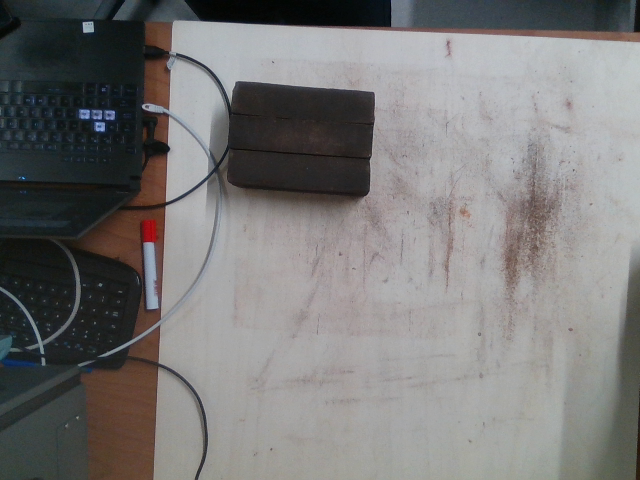brick-side: (235, 82, 372, 123), (233, 115, 370, 156), (231, 150, 368, 191)
